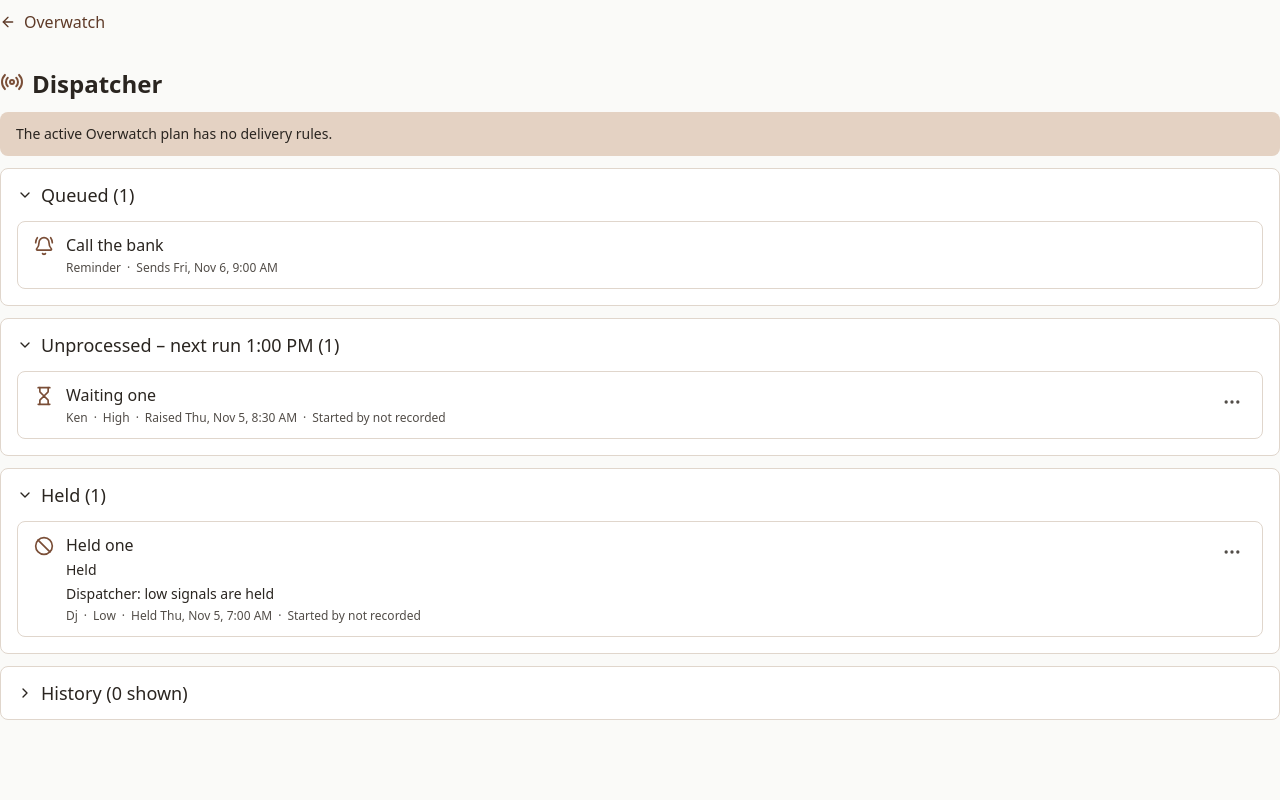
an action's error stays in the dialog and the card stays put
Click the button named "Actions for Held one" at (1232, 552), box [1210, 530, 1254, 574]
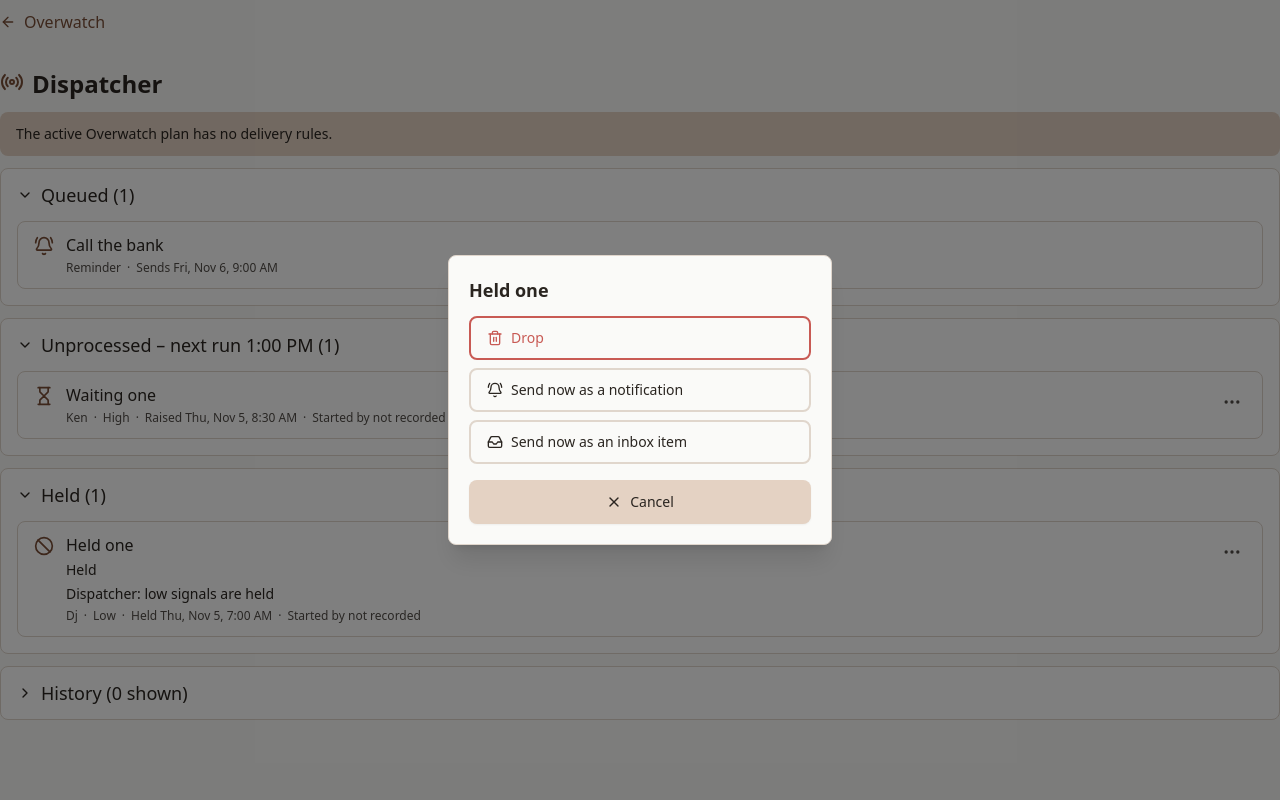
Click the button "Drop" at (527, 338), box [469, 316, 811, 360]
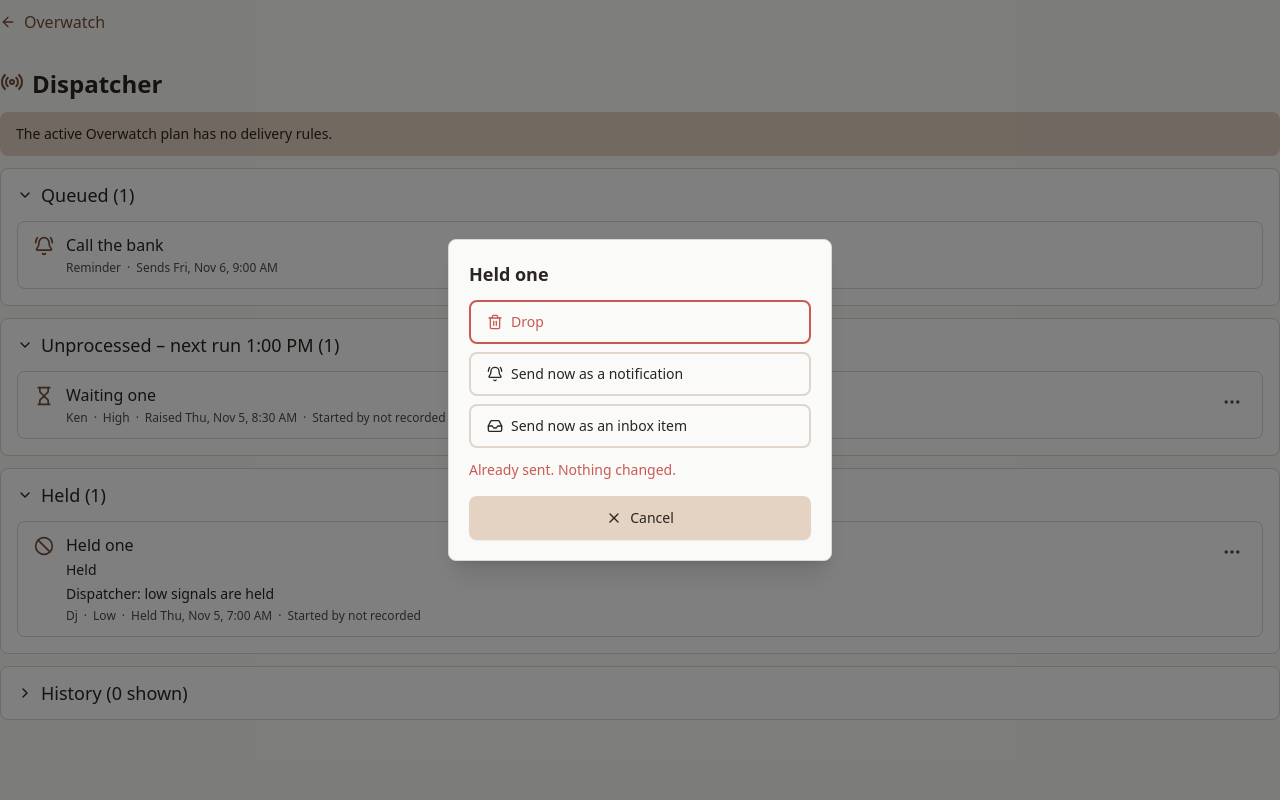
Expected: the element "Held (1)" is shown, [0, 468, 1279, 654]
Now the dialog is shown, box [448, 239, 832, 561]
Now the message reads "Already sent. Nothing changed.", box [469, 460, 676, 479]
